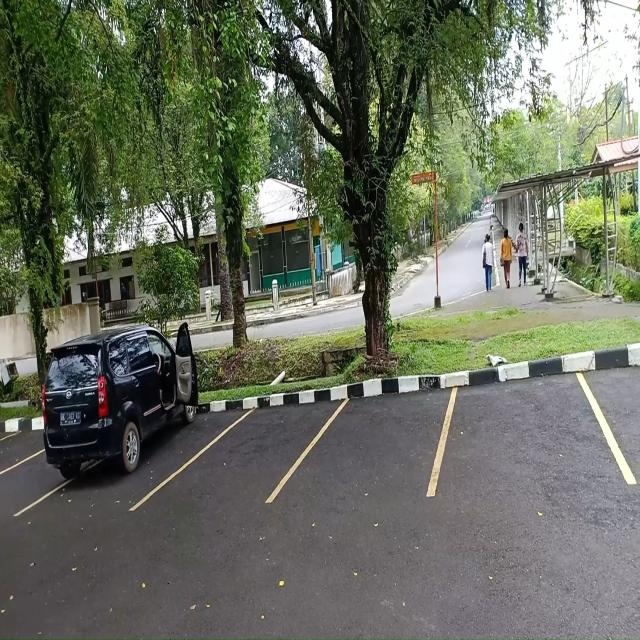empty: (443, 358, 605, 498), (308, 380, 441, 500), (185, 394, 313, 506)
occupied: (41, 386, 195, 511)
